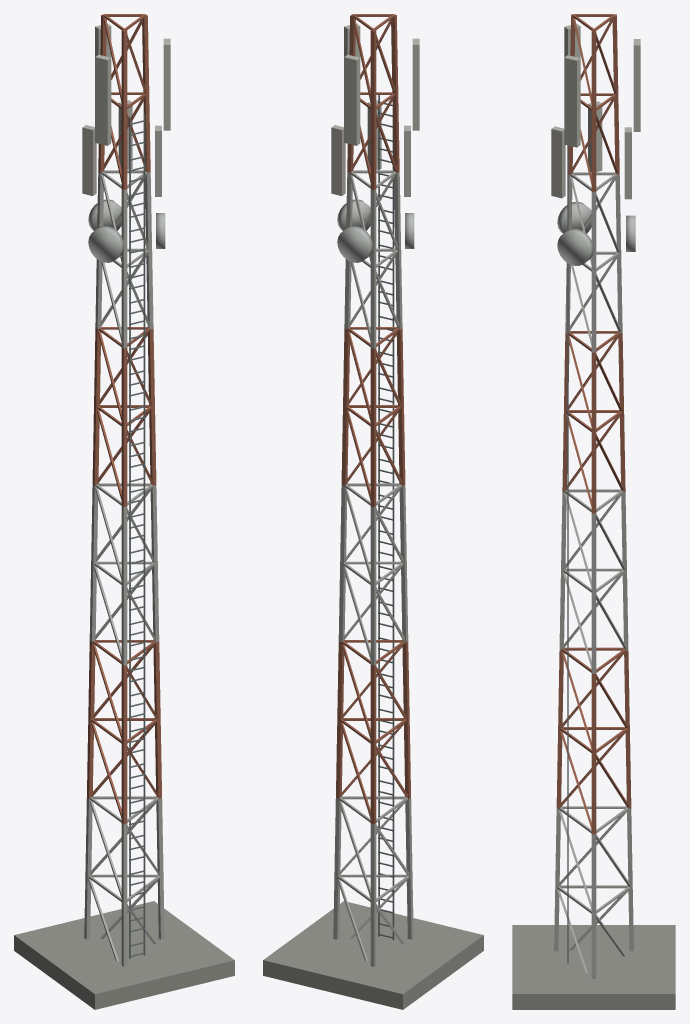
The model's file is telecom_mast.glb.
The picture shows the model from 3 angles, left to right: view 1: azimuth 30°, elevation 25°; view 2: azimuth 150°, elevation 25°; view 3: azimuth 270°, elevation 25°; orthographic projection.
Visible parts, largest first — view 1: telecom_mast; view 2: telecom_mast; view 3: telecom_mast.
Part boxes in pixels (<box>): telecom_mast: <box>14,14,234,1009</box>; telecom_mast: <box>263,14,483,1009</box>; telecom_mast: <box>512,14,675,1009</box>.
Size of the model in its own units: 4.1 by 26.45 by 4.1.
